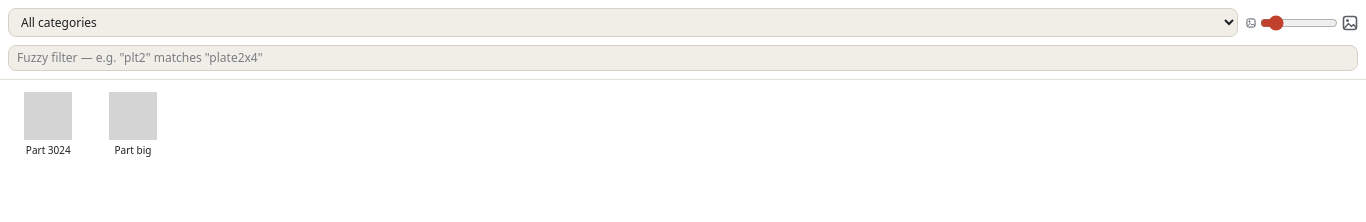
Parts list picture size › a two-finger pinch over the list resizes
The width and height of the screenshot is (1366, 222).
Expected: the text "Part 3024" is shown, [26,144,71,156]
Press the mouse on the element showing "Part 3024 Part big" at (91, 124), box [8,88,173,160]
Press the mouse on the element showing "Part 3024 Part big" at (91, 124), box [8,88,173,160]
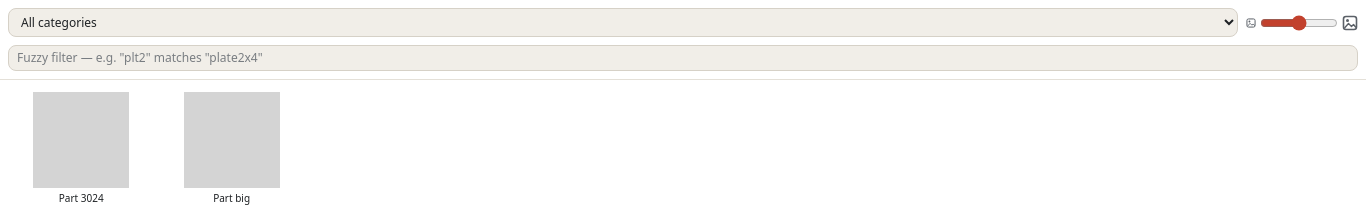
Now the slider named "Part picture size" holds "96", box [1260,12,1338,32]
